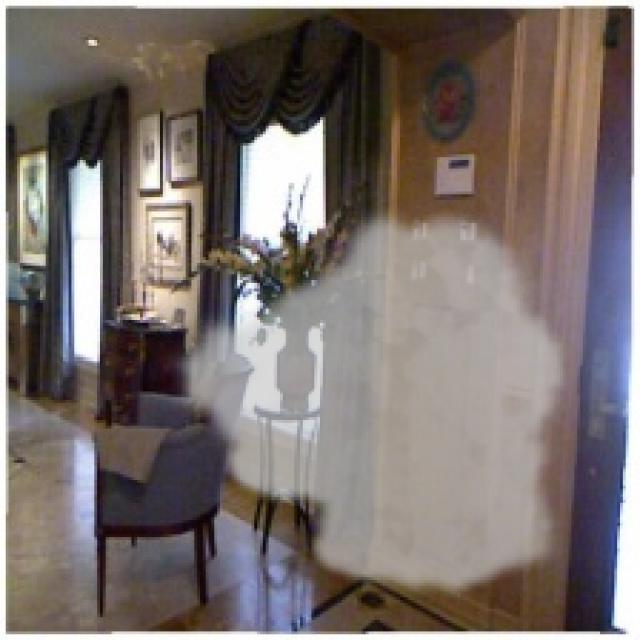smoke: (166, 200, 571, 600)
